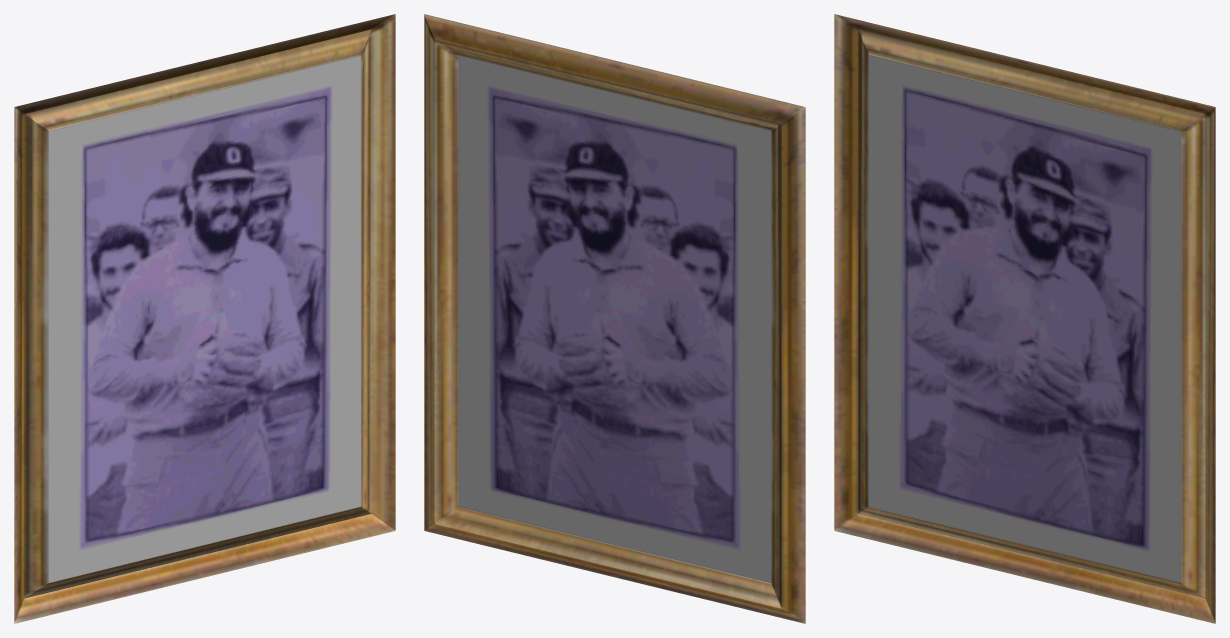
The model's file is FidelCastro.fbx.
3 views of the same model, side by side, from view 1: azimuth 30°, elevation 25°; view 2: azimuth 150°, elevation 25°; view 3: azimuth 330°, elevation 25° (orthographic).
Visible parts, largest first — view 1: Fidel; view 2: Fidel; view 3: Fidel.
Boxes of the visible parts, left/top/right/bottom form: Fidel: left=14, top=14, right=395, bottom=623; Fidel: left=424, top=14, right=805, bottom=623; Fidel: left=834, top=14, right=1215, bottom=623.
Bounding box in the file's own units: 0.1198 × 0.1551 × 0.00374.
